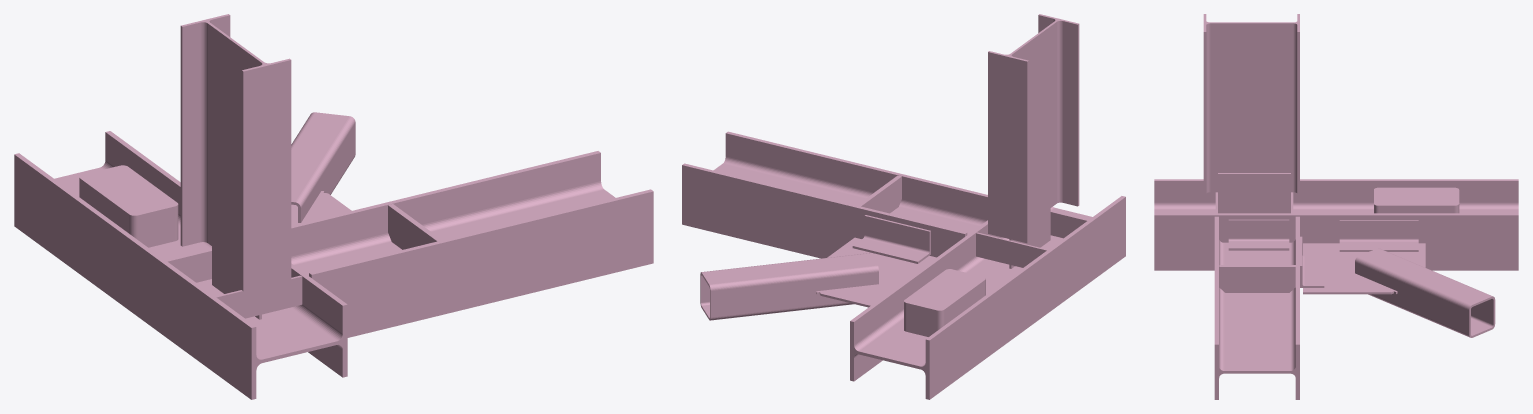
File: steelplates.glb
3 renders of one model, left to right at view 1: azimuth 30°, elevation 25°; view 2: azimuth 150°, elevation 25°; view 3: azimuth 270°, elevation 25°, orthographic. The views are drawn at different scales.
Bounding box in the file's own units: 1.64 × 1.06 × 1.52.
